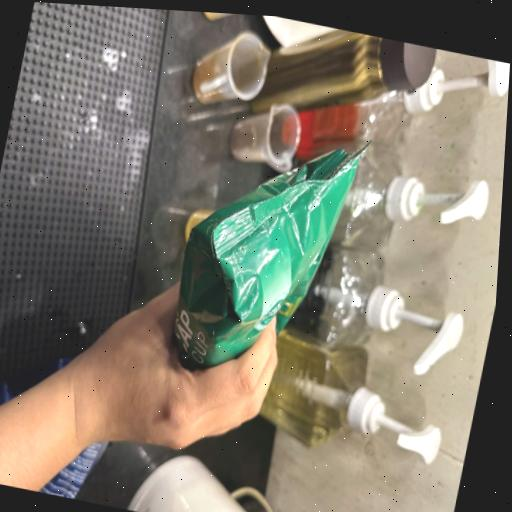cafe_xay: (172, 144, 367, 369)
